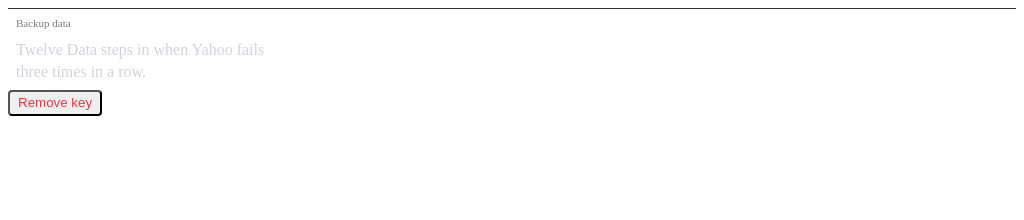
Should remove a saved key
Click the button "Remove key": [55, 103] box x1=8 y1=90 x2=102 y2=116
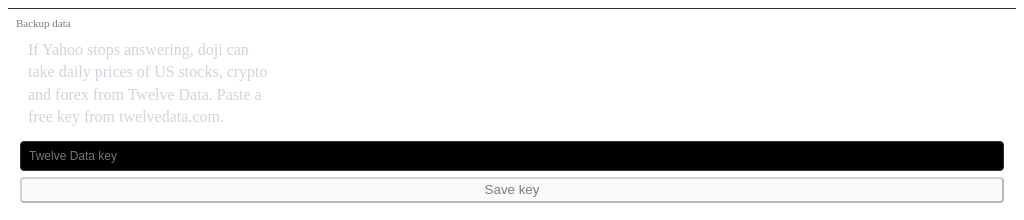
Check: the password field labelled "Twelve Data key" is shown, box x1=20 y1=141 x2=1004 y2=171
